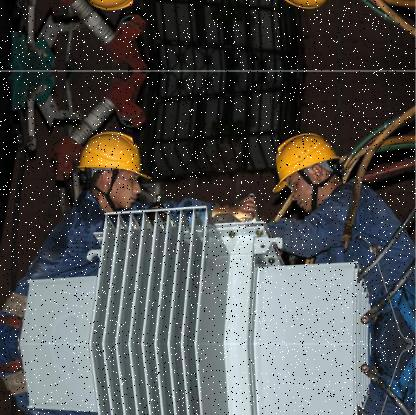helmet: (71, 122, 150, 209), (267, 124, 347, 208), (71, 0, 151, 19), (266, 0, 347, 17)
